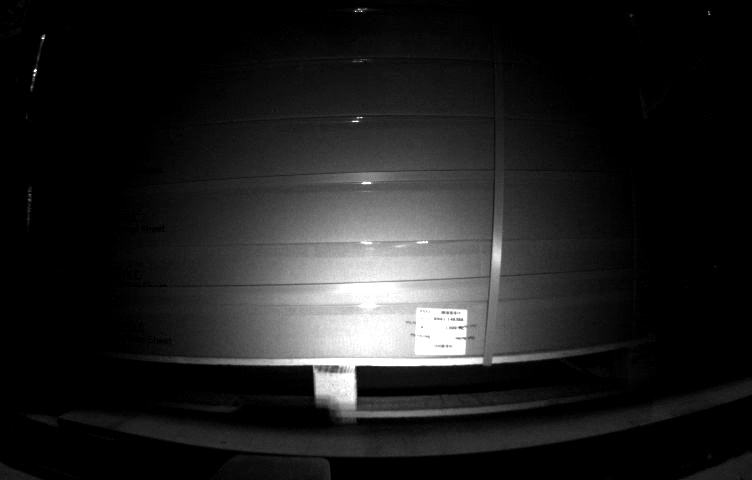True Barcode: (417, 306, 467, 355)
